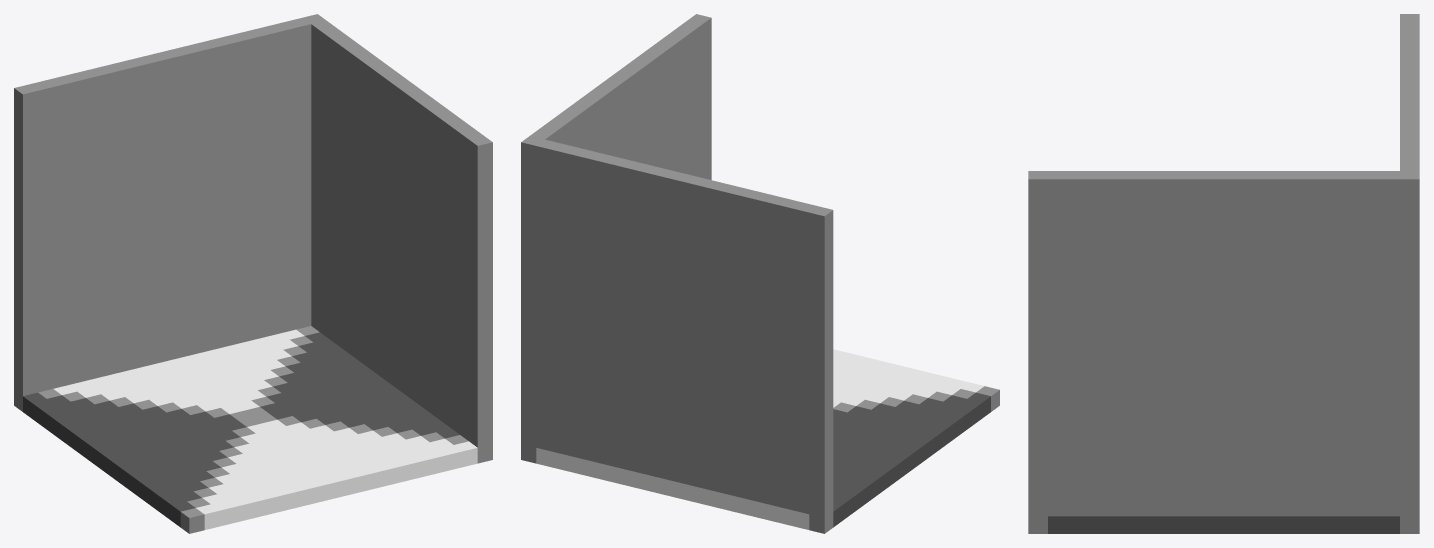
File: Test Airport-2.obj
3 renders of one model, left to right at view 1: azimuth 30°, elevation 25°; view 2: azimuth 150°, elevation 25°; view 3: azimuth 270°, elevation 25°, orthographic. The views are drawn at different scales.
Parts seen in each view (by area): view 1: Test Airport-2; view 2: Test Airport-2; view 3: Test Airport-2.
Boxes of the visible parts, box(x1,y1,x2,y2) form: Test Airport-2: box(14, 14, 492, 533); Test Airport-2: box(521, 14, 999, 533); Test Airport-2: box(1028, 14, 1419, 533).
Bounding box in the file's own units: 20 × 20 × 20.
Materials: 1 (1 with a texture image).
